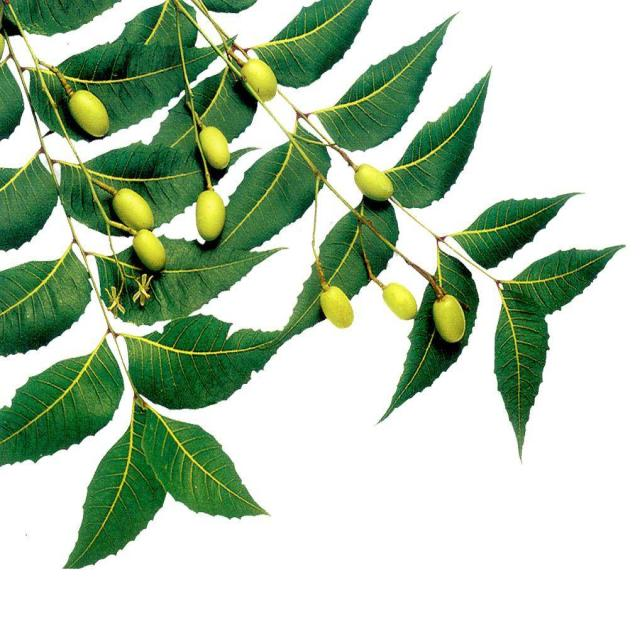Medicinal-Neem: (0, 0, 629, 580)
